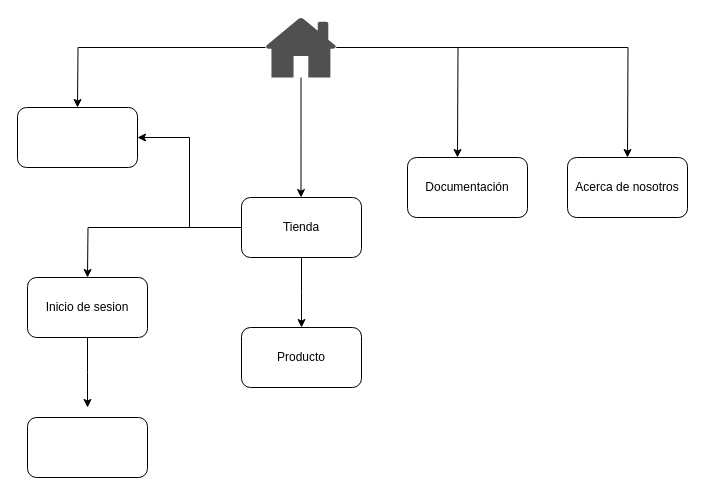
This 705x495 diagram has some shape labels left out. The shapes that lost their labels are listed below. From the top down, each one's centre as x and y in pixels, then its label:
At (77,137): "Software".
At (87,447): "Registro".
